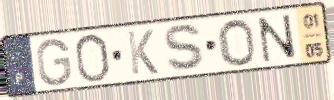G: (35, 37, 73, 87)
K: (124, 28, 160, 77)
N: (256, 13, 300, 65)
O: (215, 18, 258, 68), (73, 32, 112, 85)
S: (161, 22, 209, 74)
